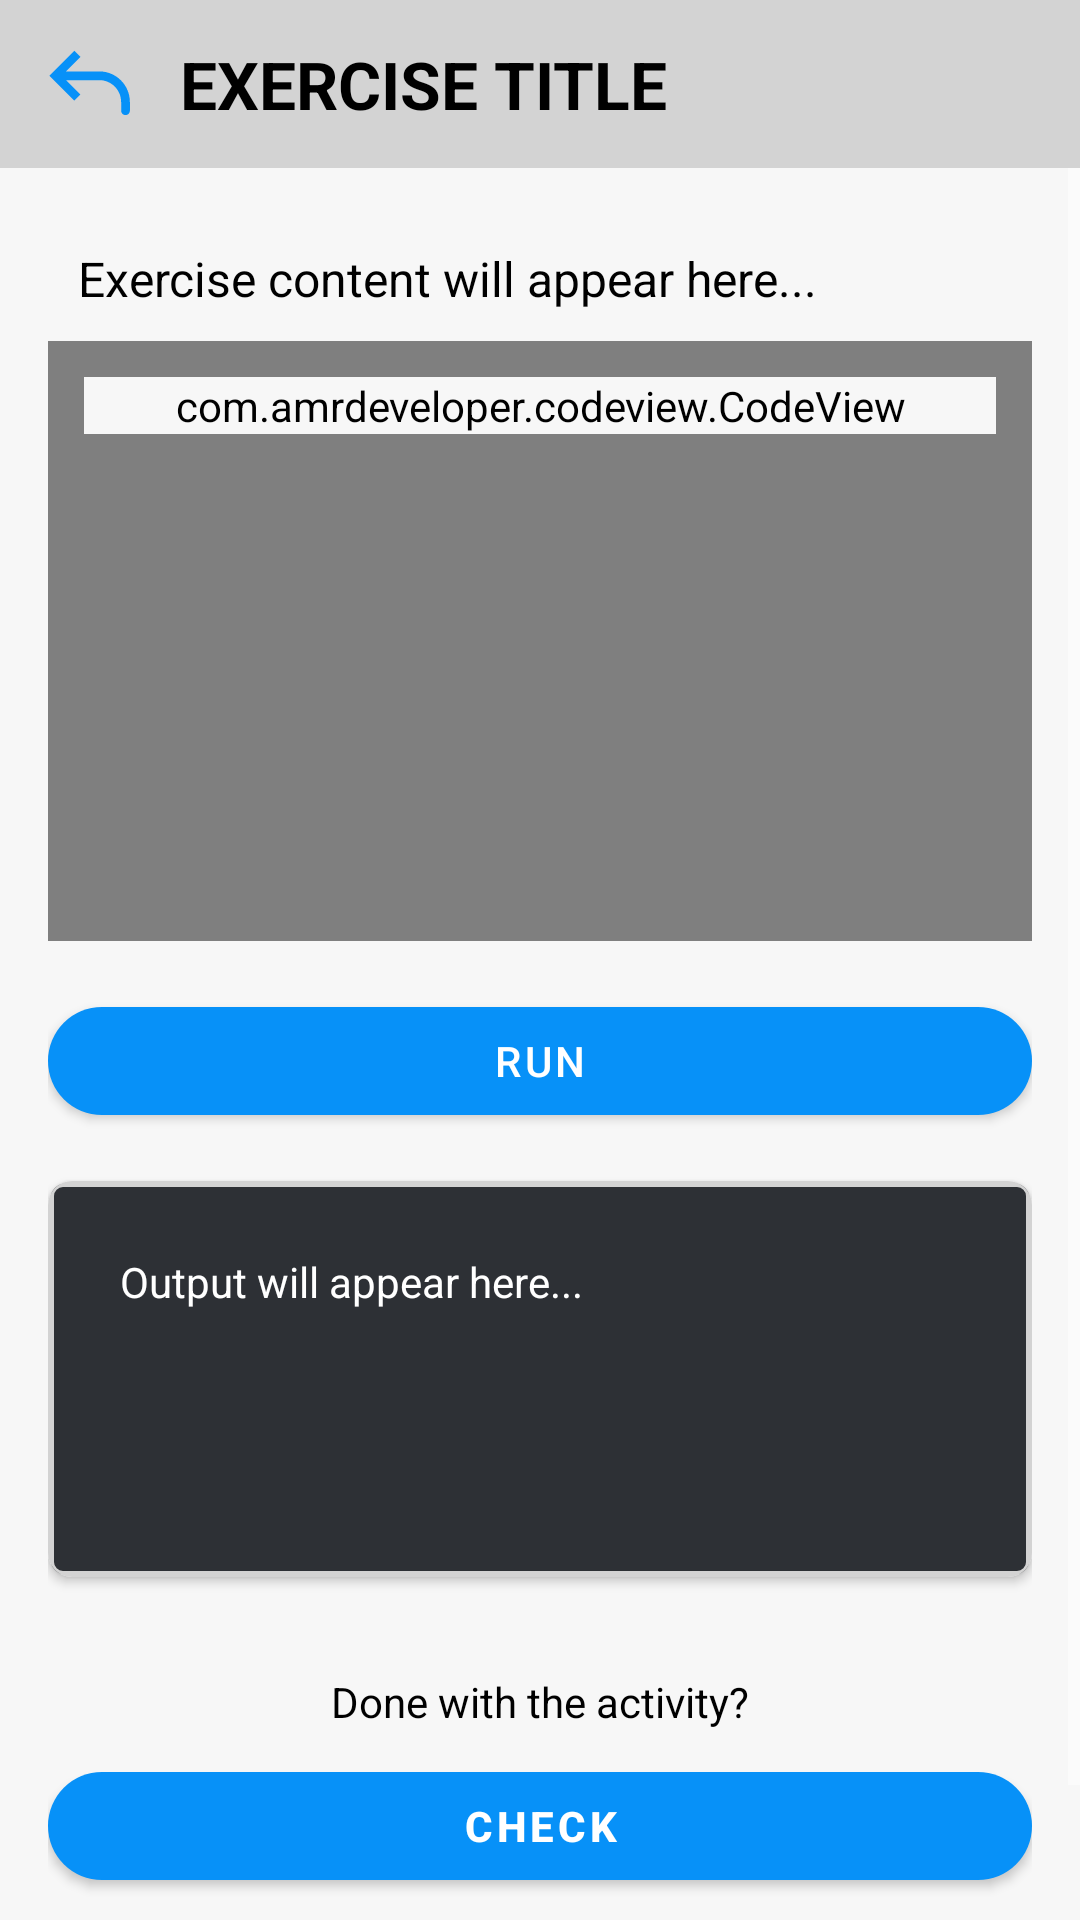

Icon click points for this 1080w x 1920h phone screenshot, format [x,y]:
back: [89,83]
